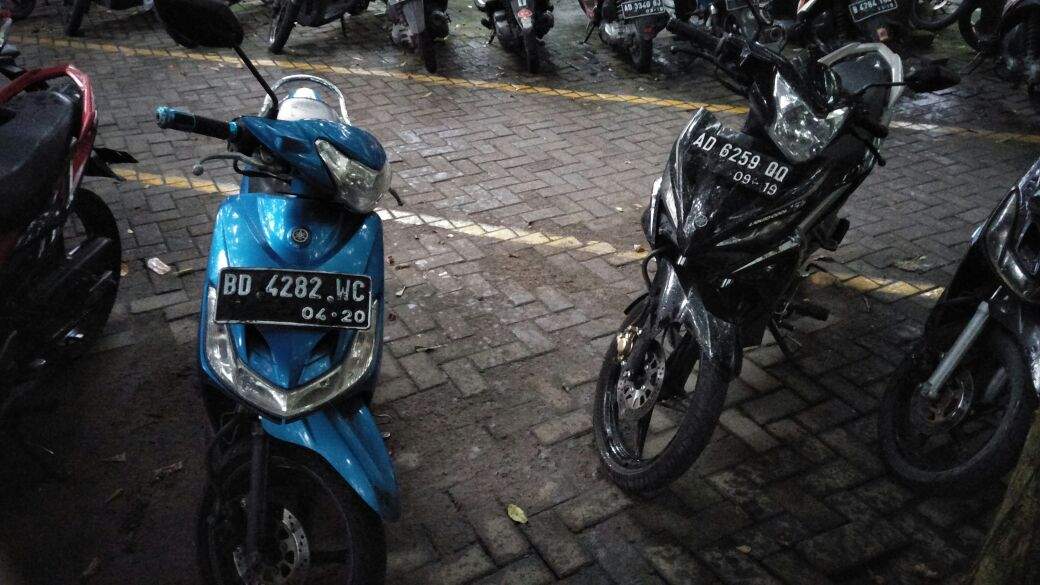plate: (214, 269, 370, 326), (679, 131, 795, 197)
